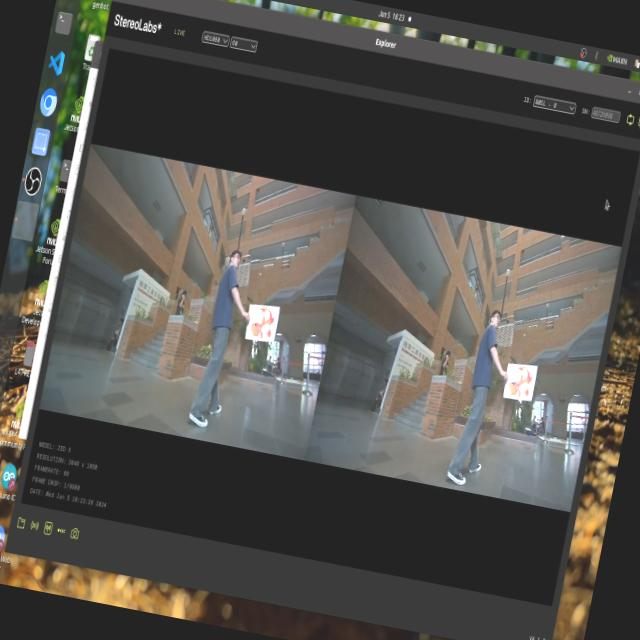red: (502, 356, 539, 399), (243, 303, 281, 342)
